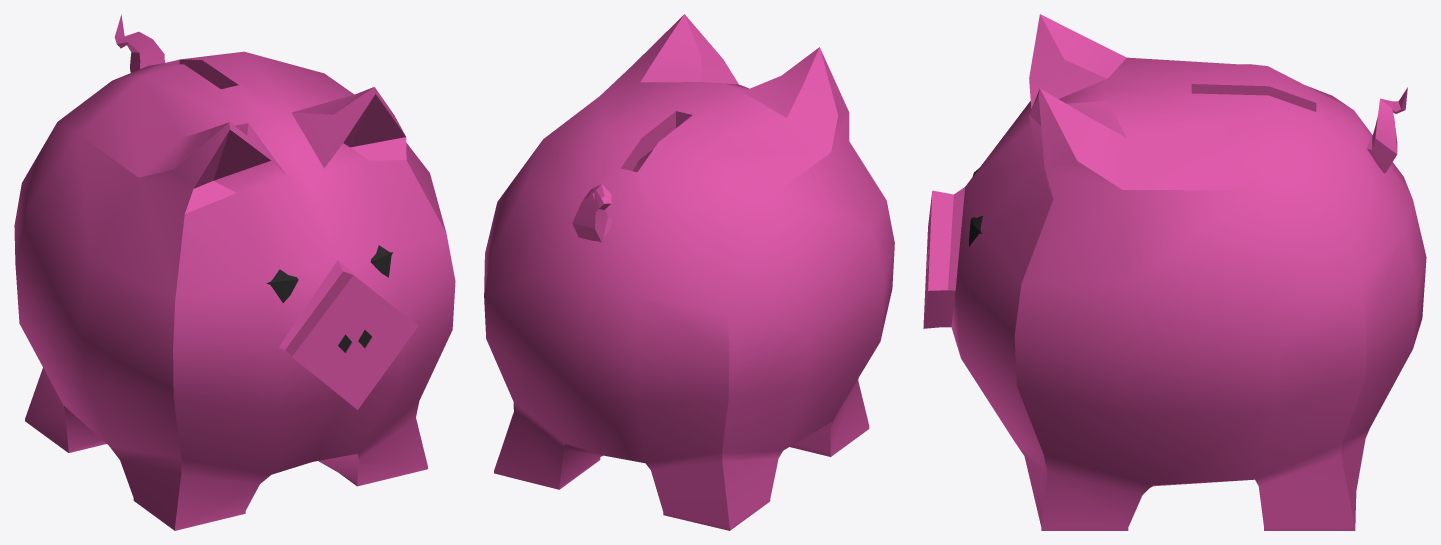
File: piggy-transformed.glb
3 renders of one model, left to right at view 1: azimuth 30°, elevation 25°; view 2: azimuth 150°, elevation 25°; view 3: azimuth 270°, elevation 25°, orthographic. The views are drawn at different scales.
Visible parts, largest first — view 1: Cube; view 2: Cube; view 3: Cube.
Boxes of the visible parts, x1,y1,x2,y2 form: Cube: (14,14,455,530); Cube: (484,14,894,530); Cube: (923,14,1426,530).
Size of what is drawn, in the model's own units: 1.42 by 1.48 by 1.63.
